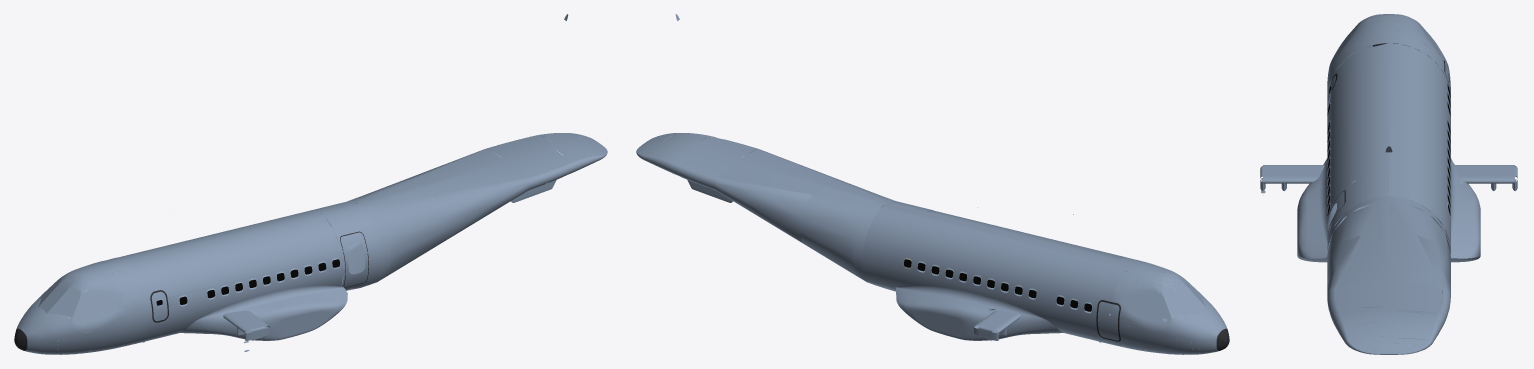
The model's file is gunship flip.fbx.
The picture shows the model from 3 angles, left to right: view 1: azimuth 30°, elevation 25°; view 2: azimuth 150°, elevation 25°; view 3: azimuth 270°, elevation 25°; orthographic projection. The views are drawn at different scales.
Visible parts, largest first — view 1: ADVANCED_FACE #5564; view 2: ADVANCED_FACE #5564; view 3: ADVANCED_FACE #5564.
Boxes of the visible parts, x1,y1,x2,y2 form: ADVANCED_FACE #5564: [14, 14, 607, 354]; ADVANCED_FACE #5564: [636, 14, 1229, 354]; ADVANCED_FACE #5564: [1260, 14, 1517, 354].
Bounding box in the file's own units: 214 × 78.08 × 61.28.
4 materials, 1 textured.
